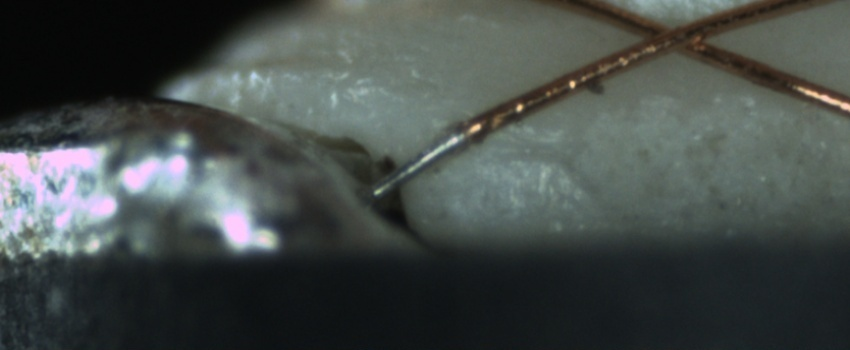CL: (617, 7, 737, 62)
DL: (474, 113, 566, 186)
TS: (371, 131, 467, 198)
